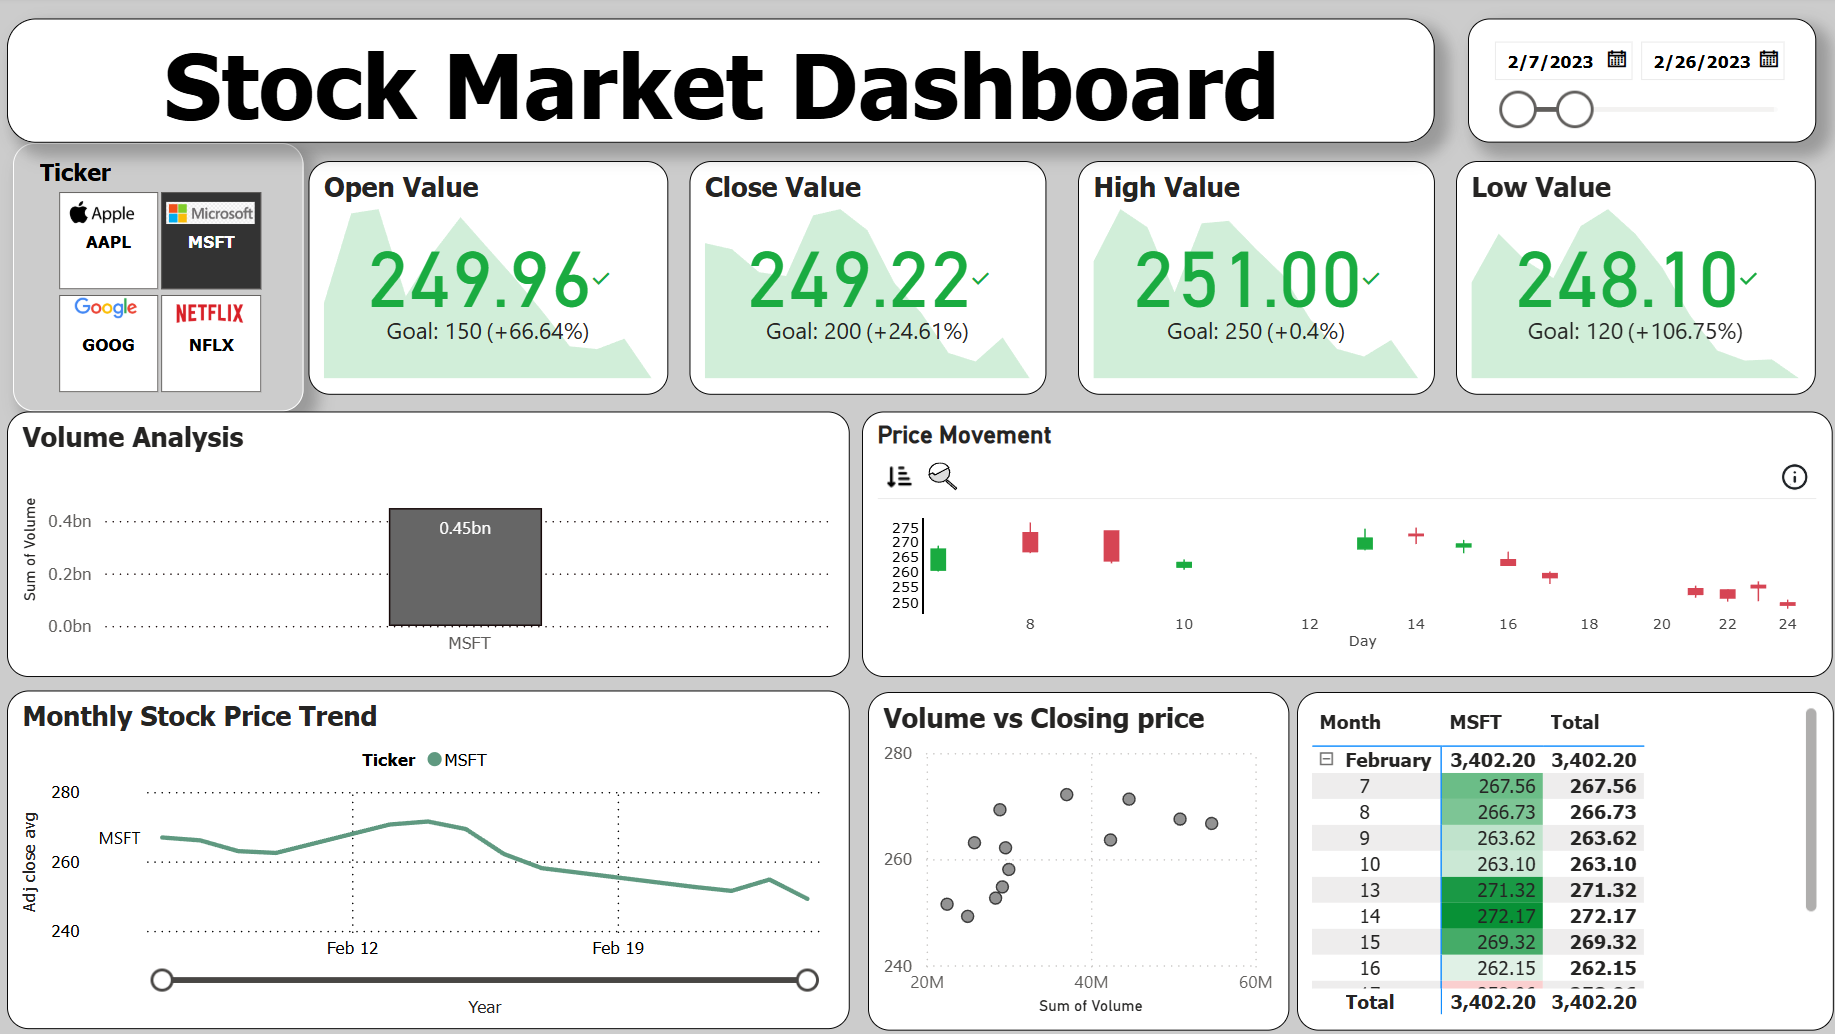

The page's visual inventory and layout, read from the dashboard file:
{"tool":"powerbi","page":{"name":"Page 1","canvas":[1280,720],"ordinal":0},"visuals":[{"type":"lineChart","title":"Monthly Stock Price Trend ","fields":{"Category":["stocks (1).Date.Variation.Date Hierarchy.Year","stocks (1).Date.Variation.Date Hierarchy.Month","stocks (1).Date.Variation.Date Hierarchy.Day"],"Series":["stocks (1).Ticker"],"Y":["Avg(stocks (1).Adj Close)"]},"box":[10.4,481.3,584.2,234.9],"z":0},{"type":"slicer","fields":{"Values":["stocks (1).Ticker"]},"box":[14.6,101.9,201.7,186.1],"z":1000},{"type":"candlestick95C27C147643B5E840B1D29AC39783F7","title":"Price Movement","fields":{"col_1":["Sum(stocks (1).Open)"],"col_2":["Sum(stocks (1).High)"],"col_3":["Sum(stocks (1).Low)"],"col_4":["Sum(stocks (1).Close)"],"col_0":["stocks (1).Date.Variation.Date Hierarchy.Day"]},"box":[602.9,287.9,672.5,184],"z":2000},{"type":"kpi","title":"Open Value","fields":{"TrendLine":["stocks (1).Date"],"Goal":["stocks (1).Target Value"],"Indicator":["Avg(stocks (1).Open)"]},"box":[219.3,114.3,249.5,162.2],"z":3000},{"type":"clusteredColumnChart","title":"Volume Analysis","fields":{"Category":["stocks (1).Ticker"],"Y":["Sum(stocks (1).Volume)"]},"box":[10.4,287.9,584.2,184],"z":4000},{"type":"slicer","fields":{"Values":["stocks (1).Date"]},"box":[1022.8,15.6,241.2,86.3],"z":5000},{"type":"kpi","title":"Close Value","fields":{"TrendLine":["stocks (1).Date"],"Goal":["stocks (1).Fixed Target Close"],"Indicator":["Avg(stocks (1).Close)"]},"box":[483.4,114.3,247.4,162.2],"z":6000},{"type":"kpi","title":"High Value","fields":{"TrendLine":["stocks (1).Date"],"Goal":["stocks (1).Fixed Target High"],"Indicator":["Avg(stocks (1).High)"]},"box":[752.6,114.3,247.4,162.2],"z":7000},{"type":"kpi","title":"Low Value","fields":{"TrendLine":["stocks (1).Date"],"Goal":["stocks (1).Fixed Target Low"],"Indicator":["Avg(stocks (1).Low)"]},"box":[1014.5,114.3,249.5,162.2],"z":8000},{"type":"image","box":[115.4,132,71.7,36.4],"z":9000},{"type":"image","box":[41.6,132,69.6,35.3],"z":10000},{"type":"image","box":[35.3,203.7,87.3,24.9],"z":11000},{"type":"image","box":[122.7,203.7,56.1,32.2],"z":12000},{"type":"textbox","title":"Stock Market Dashboard","box":[10.4,15.6,989.6,86.3],"z":13000},{"type":"scatterChart","title":"Volume vs Closing price","fields":{"X":["Sum(stocks (1).Volume)"],"Y":["stocks (1).Close"]},"box":[607.1,482.3,292.1,234.9],"z":13001},{"type":"pivotTable","fields":{"Values":["Sum(stocks (1).Close)"],"Columns":["stocks (1).Ticker"],"Rows":["stocks (1).Date.Variation.Date Hierarchy.Month","stocks (1).Date.Variation.Date Hierarchy.Day"]},"box":[904.3,482.3,372.1,234.9],"z":13002}]}

Visuals, with their boxes in screenshot pixels (x1, y1, x2, y2), scaled from the page's 1280x720 canvas onto the 1835x1034 screenshot:
"Monthly Stock Price Trend " lineChart: pyautogui.locateOnScreen(15, 691, 852, 1029)
slicer - stocks (1).Ticker: pyautogui.locateOnScreen(21, 146, 310, 414)
"Price Movement" candlestick95C27C147643B5E840B1D29AC39783F7: pyautogui.locateOnScreen(864, 413, 1828, 678)
"Open Value" kpi: pyautogui.locateOnScreen(314, 164, 672, 397)
"Volume Analysis" clusteredColumnChart: pyautogui.locateOnScreen(15, 413, 852, 678)
slicer - stocks (1).Date: pyautogui.locateOnScreen(1466, 22, 1812, 146)
"Close Value" kpi: pyautogui.locateOnScreen(693, 164, 1048, 397)
"High Value" kpi: pyautogui.locateOnScreen(1079, 164, 1434, 397)
"Low Value" kpi: pyautogui.locateOnScreen(1454, 164, 1812, 397)
image: pyautogui.locateOnScreen(165, 190, 268, 242)
image: pyautogui.locateOnScreen(60, 190, 159, 240)
image: pyautogui.locateOnScreen(51, 293, 176, 328)
image: pyautogui.locateOnScreen(176, 293, 256, 339)
"Stock Market Dashboard" textbox: pyautogui.locateOnScreen(15, 22, 1434, 146)
"Volume vs Closing price" scatterChart: pyautogui.locateOnScreen(870, 693, 1289, 1030)
pivotTable - Sum(stocks (1).Close) x stocks (1).Ticker: pyautogui.locateOnScreen(1296, 693, 1830, 1030)
